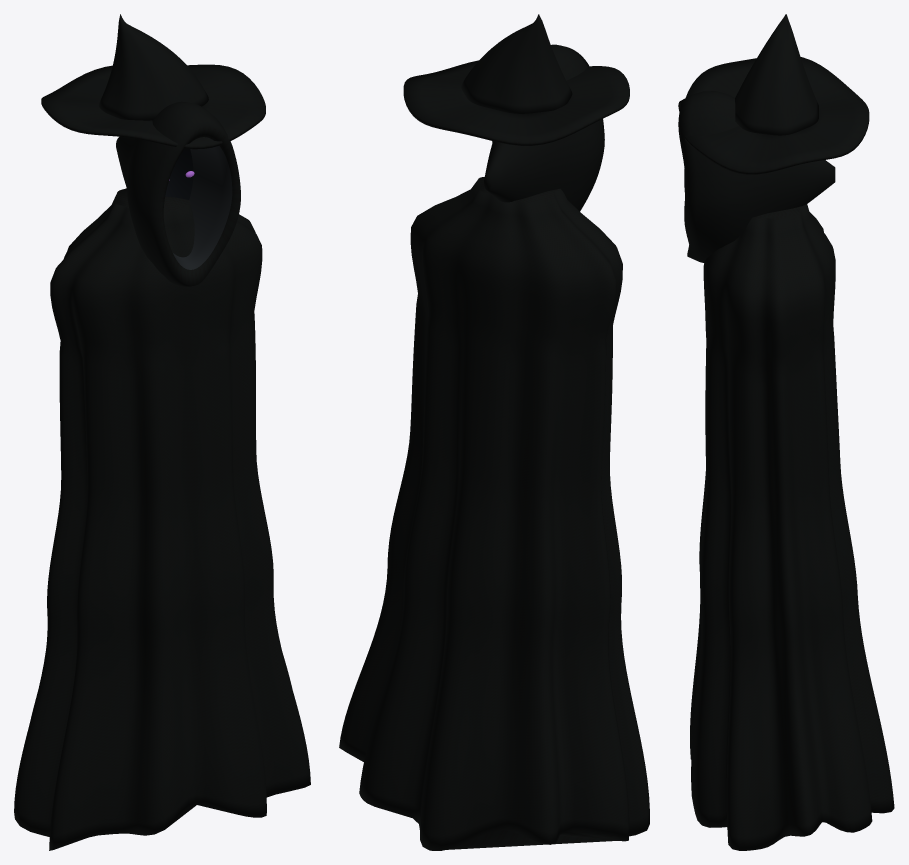
File: witch.glb
3 renders of one model, left to right at view 1: azimuth 30°, elevation 25°; view 2: azimuth 150°, elevation 25°; view 3: azimuth 270°, elevation 25°, orthographic. The views are drawn at different scales.
Visible parts, largest first — view 1: Witch_Cloak, Witch_Hood, Witch_WornBrim, Witch_BentCrown, Witch_FaceVoid; view 2: Witch_Cloak, Witch_WornBrim, Witch_Hood, Witch_BentCrown; view 3: Witch_Cloak, Witch_Hood, Witch_WornBrim, Witch_BentCrown.
Boxes of the visible parts, x1,y1,x2,y2 form: Witch_Cloak: [14, 188, 310, 850]; Witch_Hood: [116, 101, 240, 286]; Witch_WornBrim: [41, 64, 265, 149]; Witch_BentCrown: [98, 14, 208, 120]; Witch_FaceVoid: [165, 148, 193, 199]; Witch_Cloak: [339, 177, 649, 850]; Witch_WornBrim: [403, 60, 629, 145]; Witch_Hood: [484, 44, 604, 211]; Witch_BentCrown: [461, 14, 572, 113]; Witch_Cloak: [690, 204, 894, 850]; Witch_Hood: [678, 91, 835, 262]; Witch_WornBrim: [684, 57, 869, 174]; Witch_BentCrown: [735, 14, 818, 135].
Bounding box in the file's own units: 1.03 × 2.82 × 0.7126.
4 materials, 1 textured.
